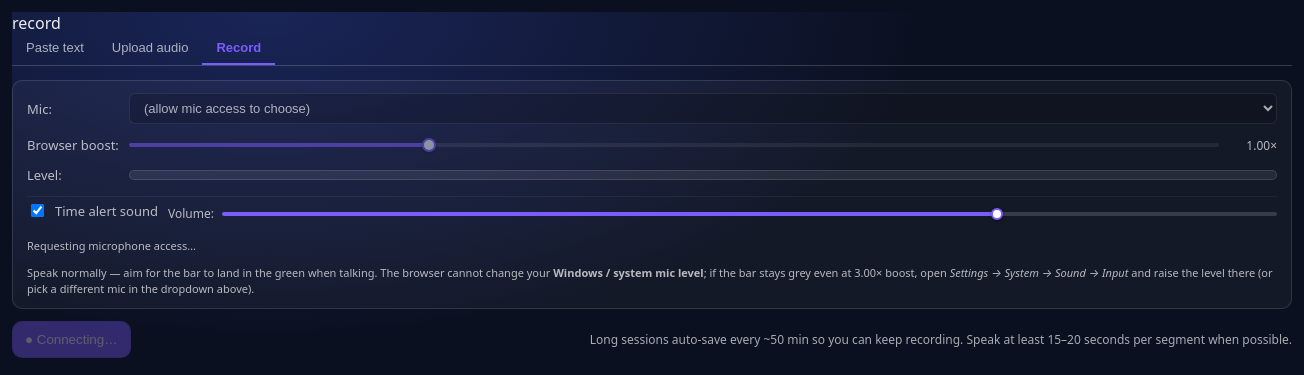
AudioInputTabs — recording-in-progress confirm (B3) › does NOT prompt when leaving Record with no recording active
Click the tab "Paste text" at (55, 50), box [12, 34, 98, 65]
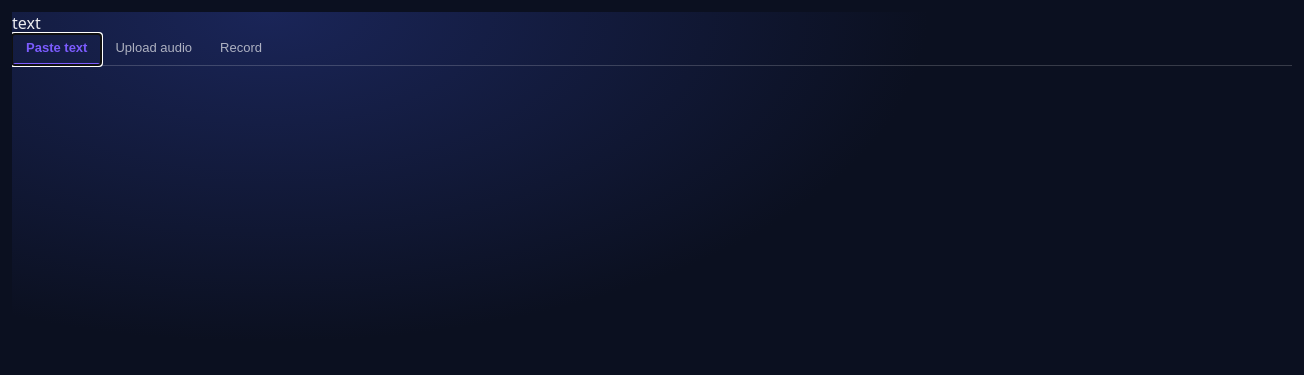
Check: the text with test id "active-tab" reads "text", box [12, 12, 41, 34]
